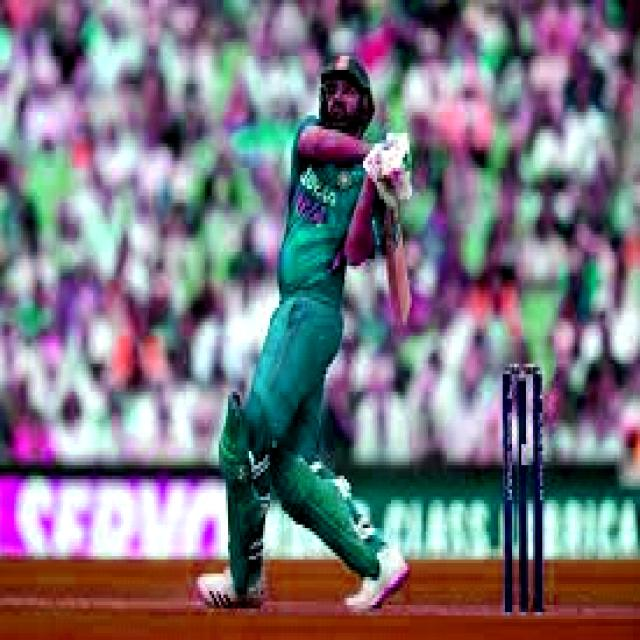toe: (388, 258, 413, 328)
